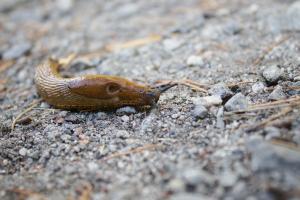slug: (30, 41, 174, 126)
